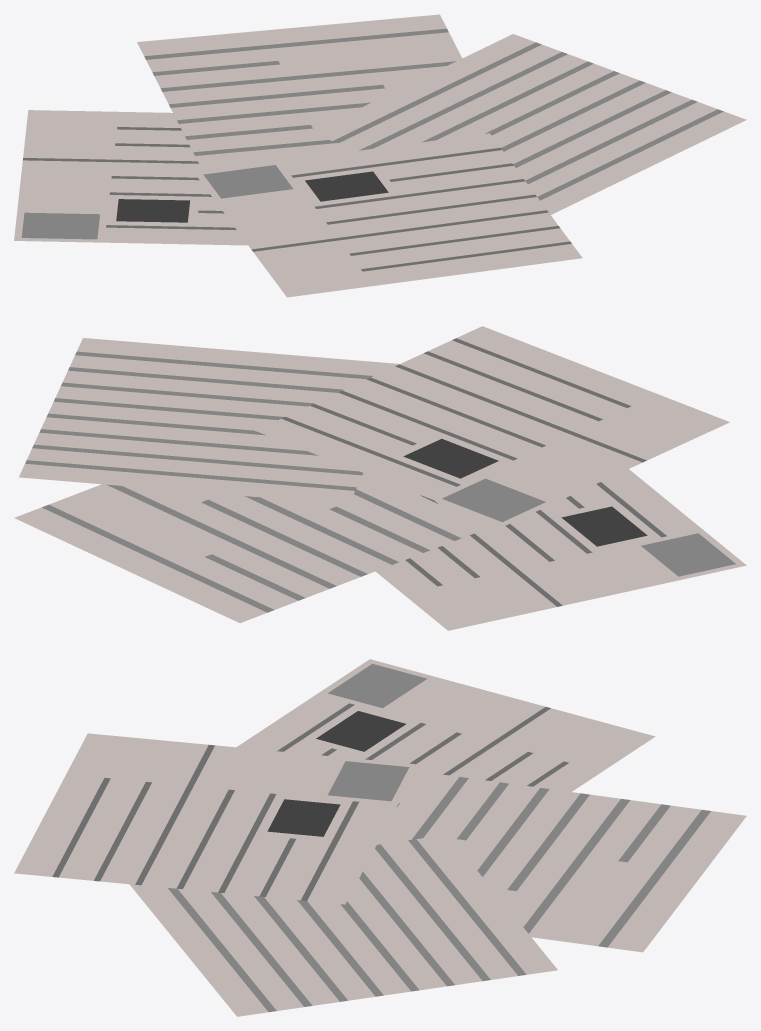
Rendered from News papers.fbx.
The picture shows the model from 3 angles, top to bottom: view 1: azimuth 30°, elevation 25°; view 2: azimuth 150°, elevation 25°; view 3: azimuth 270°, elevation 25°; orthographic projection. The views are drawn at different scales.
Visible parts, largest first — view 1: News papers; view 2: News papers; view 3: News papers.
Part boxes in pixels (box(x1,y1,x2,y2)): News papers: box(14, 14, 746, 297); News papers: box(14, 326, 746, 630); News papers: box(14, 659, 746, 1016).
Bounding box in the file's own units: 118 × 0.4283 × 102.
